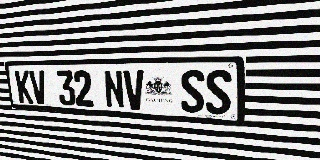2: (73, 70, 93, 107)
3: (56, 70, 76, 106)
K: (15, 70, 33, 103)
N: (103, 70, 125, 109)
S: (205, 70, 231, 115), (180, 70, 205, 113)
V: (123, 70, 146, 110), (29, 70, 48, 104)
